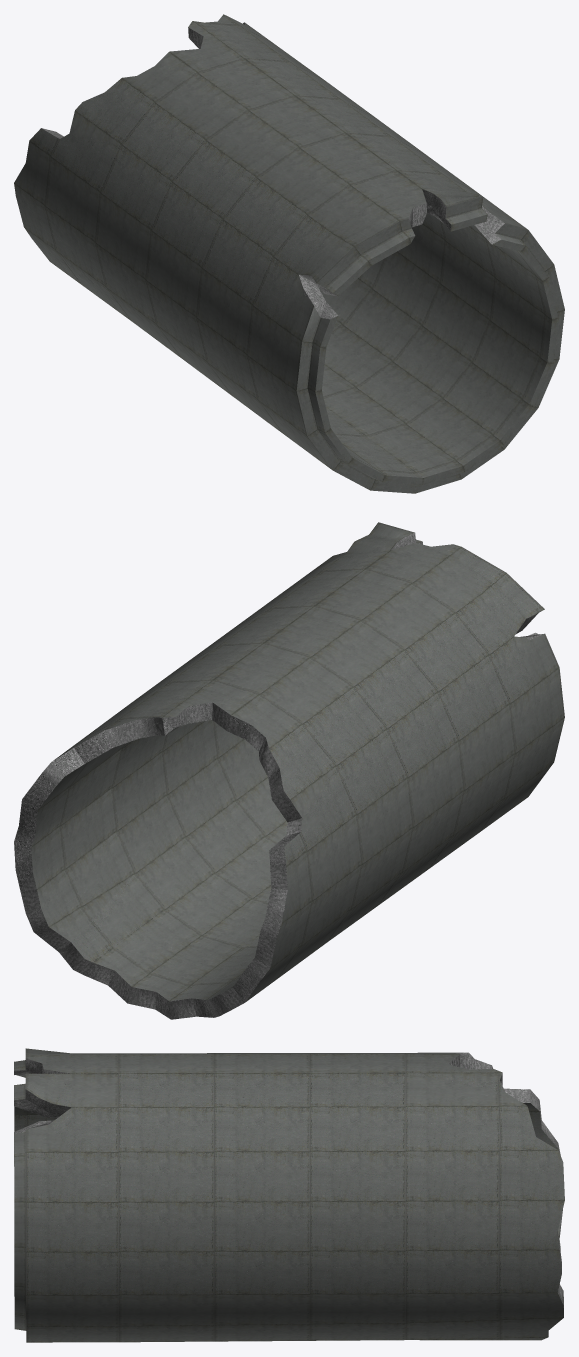
Rendered from Prop_Wj006.glb.
3 renders of one model, top to bottom at view 1: azimuth 30°, elevation 25°; view 2: azimuth 150°, elevation 25°; view 3: azimuth 270°, elevation 25°, orthographic. The views are drawn at different scales.
Parts seen in each view (by area): view 1: xiutz_wj006; view 2: xiutz_wj006; view 3: xiutz_wj006.
Part boxes in pixels (x1=…): xiutz_wj006: x1=14, y1=14, x2=564, y2=493; xiutz_wj006: x1=14, y1=522, x2=564, y2=1019; xiutz_wj006: x1=14, y1=1048, x2=564, y2=1342.
Bounding box in the file's own units: 70.16 × 70.16 × 132.
1 material, 1 textured.
